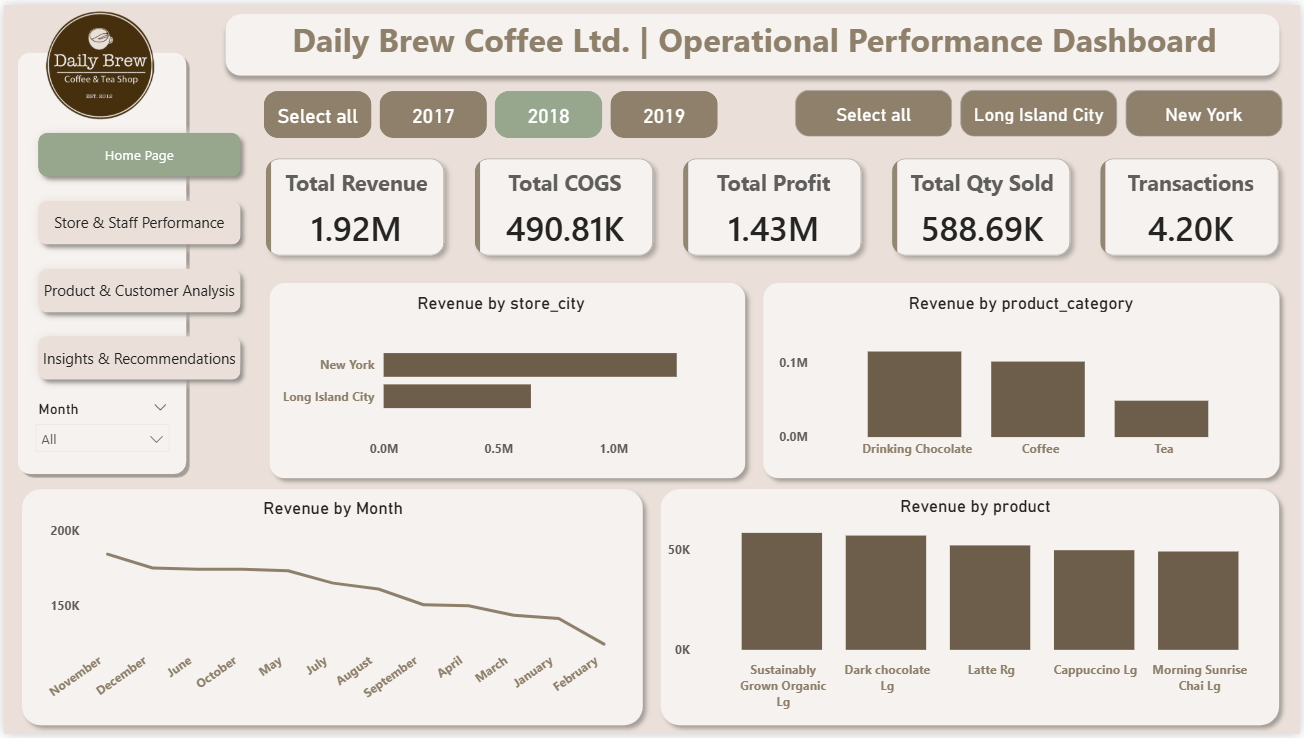

This screenshot's page, from the dashboard's own definition file:
{"tool":"powerbi","page":{"name":"Home Page","canvas":[1280,720],"ordinal":0},"visuals":[{"type":"shape","box":[640,468.9,628.9,251.1],"z":0},{"type":"shape","box":[8.8,468.8,631.2,251.2],"z":1000},{"type":"shape","box":[253,265,488,211],"z":2000},{"type":"cardVisual","fields":{"Data":["_masure.Tota Revenue","_masure.Total COGS","_masure.Total Profit","_masure.Total Quantity Sold","_masure.Total Transactions"]},"box":[242.5,135,1037.5,130],"z":3000},{"type":"barChart","title":" Revenue by store_city","fields":{"Category":["Store.store_city"],"Y":["_masure.Tota Revenue"]},"box":[268.8,283.8,443.8,172.5],"z":4000},{"type":"lineChart","title":" Revenue by Month","fields":{"Category":["Calender.Month_Name"],"Y":["_masure.Tota Revenue"]},"box":[35,486,581,218],"z":5000},{"type":"columnChart","title":" Revenue by product","fields":{"Category":["Product.product"],"Y":["_masure.Tota Revenue"]},"box":[651.1,485.6,617.8,218.9],"z":6000},{"type":"shape","box":[8.4,42.2,188.2,427.1],"z":7000},{"type":"advancedSlicerVisual","fields":{"Values":["Store.store_city"]},"box":[776.2,78.8,492.5,56.2],"z":8000},{"type":"advancedSlicerVisual","fields":{"Values":["Calender.Year_ID"]},"box":[251.2,80,461.2,56.2],"z":9000},{"type":"pageNavigator","box":[19.3,117,218.4,263],"z":10000},{"type":"shape","box":[210,0,1058.8,78.8],"z":11000},{"type":"shape","box":[741,265,528,211],"z":12000},{"type":"columnChart","title":" Revenue by product_category","fields":{"Y":["_masure.Tota Revenue"],"Category":["Product.product_category"]},"box":[761,284,488,173],"z":14000},{"type":"slicer","fields":{"Values":["Calender.Month"]},"box":[20.8,384.6,152.3,71.5],"z":15000},{"type":"textbox","box":[255.7,7.1,971.4,55.7],"z":16000},{"type":"image","box":[26,0,152.9,121.2],"z":16500}]}

Visuals, with their boxes in screenshot pixels (x1, y1, x2, y2), scaled from the page's 1280x720 canvas onto the 1304x738 screenshot:
shape: crop(652, 481, 1293, 737)
shape: crop(9, 481, 652, 737)
shape: crop(258, 272, 755, 488)
cardVisual - _masure.Tota Revenue x _masure.Total COGS: crop(247, 138, 1303, 272)
" Revenue by store_city" barChart: crop(274, 291, 726, 468)
" Revenue by Month" lineChart: crop(36, 498, 628, 722)
" Revenue by product" columnChart: crop(663, 498, 1293, 722)
shape: crop(9, 43, 200, 481)
advancedSlicerVisual - Store.store_city: crop(791, 81, 1292, 138)
advancedSlicerVisual - Calender.Year_ID: crop(256, 82, 726, 140)
pageNavigator: crop(20, 120, 242, 389)
shape: crop(214, 0, 1293, 81)
shape: crop(755, 272, 1293, 488)
" Revenue by product_category" columnChart: crop(775, 291, 1272, 468)
slicer - Calender.Month: crop(21, 394, 176, 468)
textbox: crop(260, 7, 1250, 64)
image: crop(26, 0, 182, 124)
